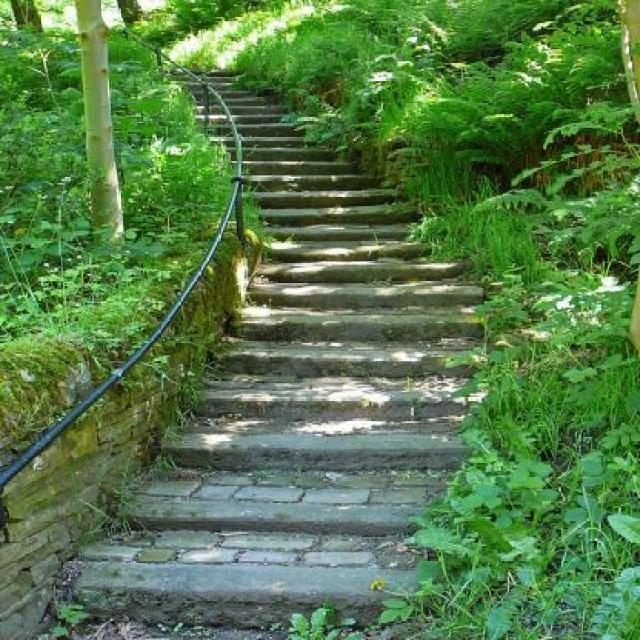stair: (58, 64, 486, 640)
